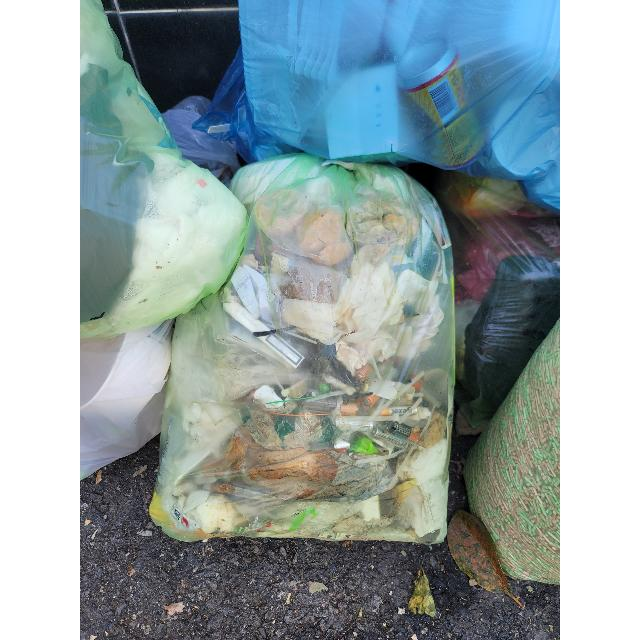general_trashbag: (151, 155, 454, 544), (80, 0, 246, 339)
other_trashbag: (196, 0, 560, 212), (464, 320, 560, 584)
